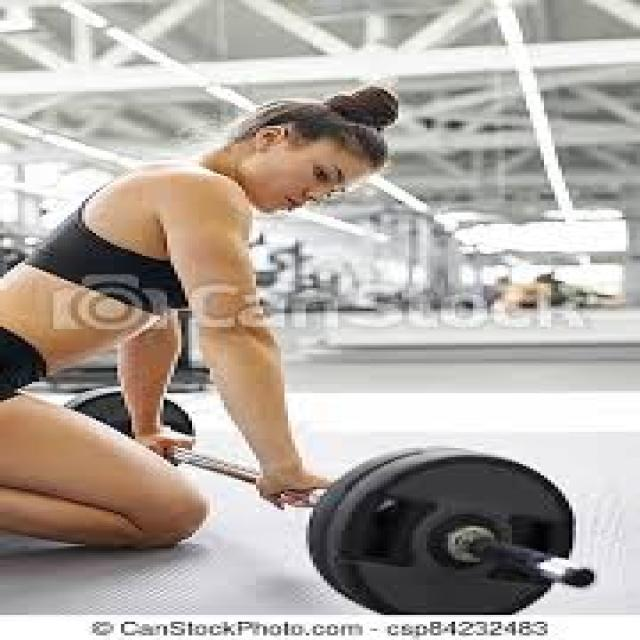barbell_plate_side: (57, 384, 191, 615), (460, 384, 594, 615)
